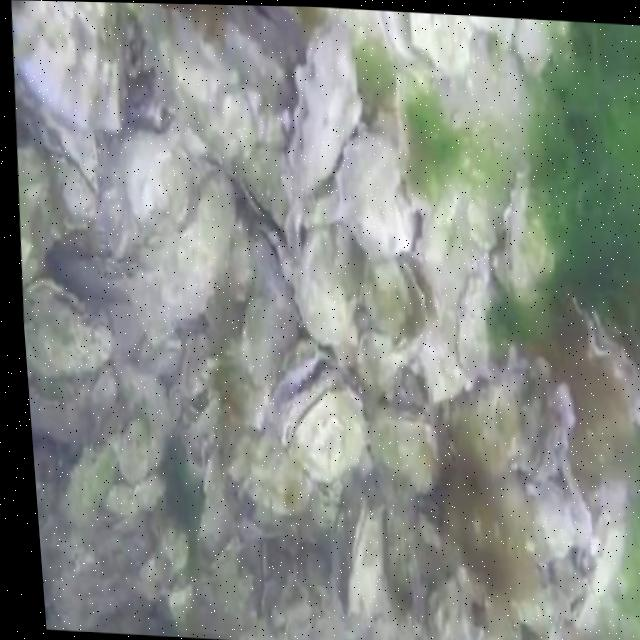Oyster-Closed: (290, 18, 360, 197), (22, 279, 111, 379), (575, 298, 640, 432), (505, 171, 559, 292), (367, 405, 442, 492), (578, 513, 627, 627), (235, 142, 289, 226), (348, 502, 387, 615)
Oyster-Indeterminate: (132, 174, 237, 348), (11, 0, 128, 130), (103, 132, 197, 255), (294, 226, 367, 340)
Oyster-Open: (273, 343, 366, 484), (221, 408, 318, 531), (197, 4, 297, 90), (363, 253, 437, 341), (383, 10, 471, 78)
